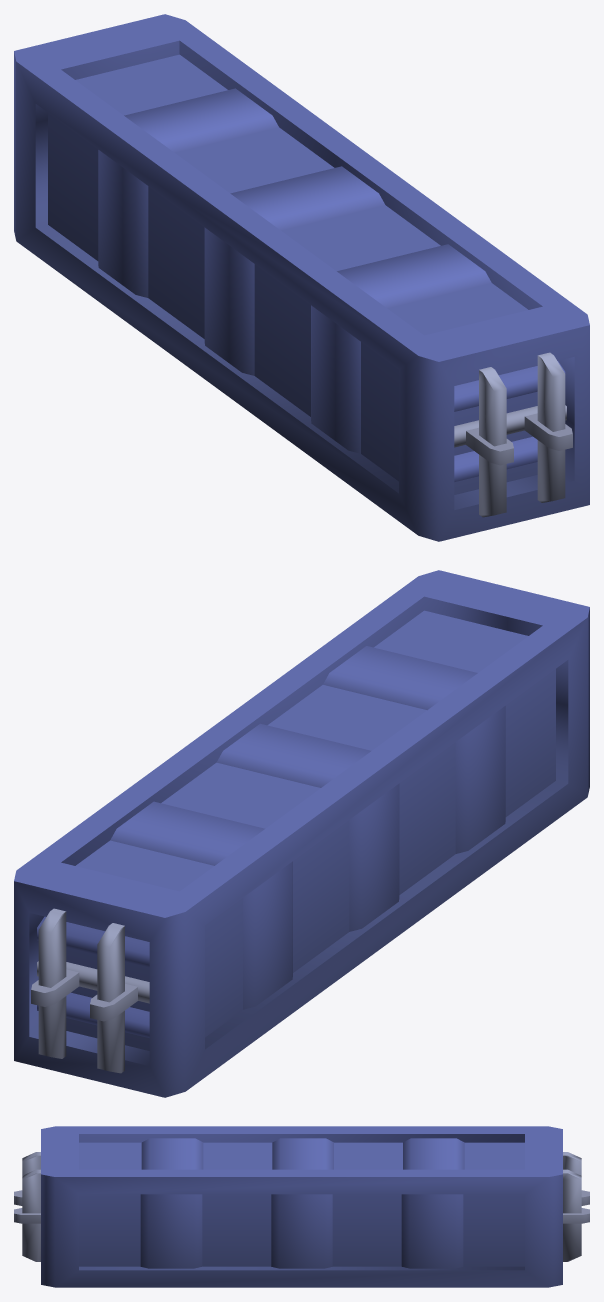
The model's file is container_b.glb.
3 renders of one model, top to bottom at view 1: azimuth 30°, elevation 25°; view 2: azimuth 150°, elevation 25°; view 3: azimuth 270°, elevation 25°, orthographic. The views are drawn at different scales.
Parts seen in each view (by area): view 1: mesh; view 2: mesh; view 3: mesh.
Boxes of the visible parts, bbox=[...] form: mesh: bbox=[14, 14, 589, 541]; mesh: bbox=[14, 570, 589, 1097]; mesh: bbox=[14, 1126, 589, 1287].
Bounding box in the file's own units: 2.54 × 2.58 × 12.2.
